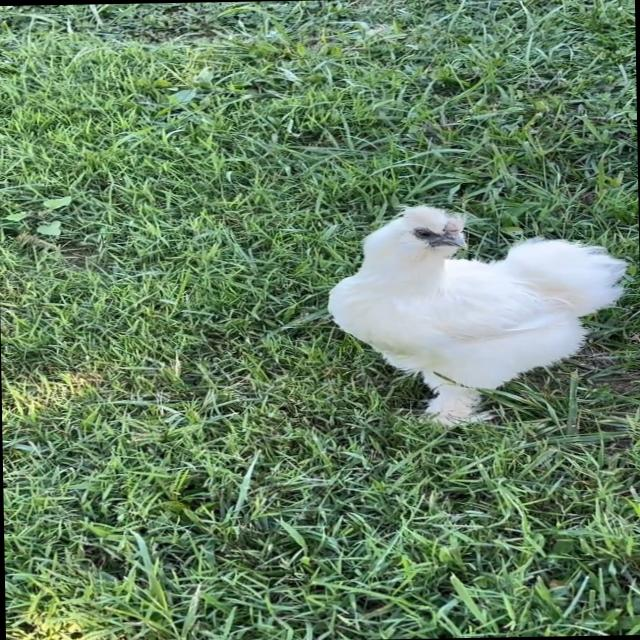menacing: (294, 172, 636, 428)
